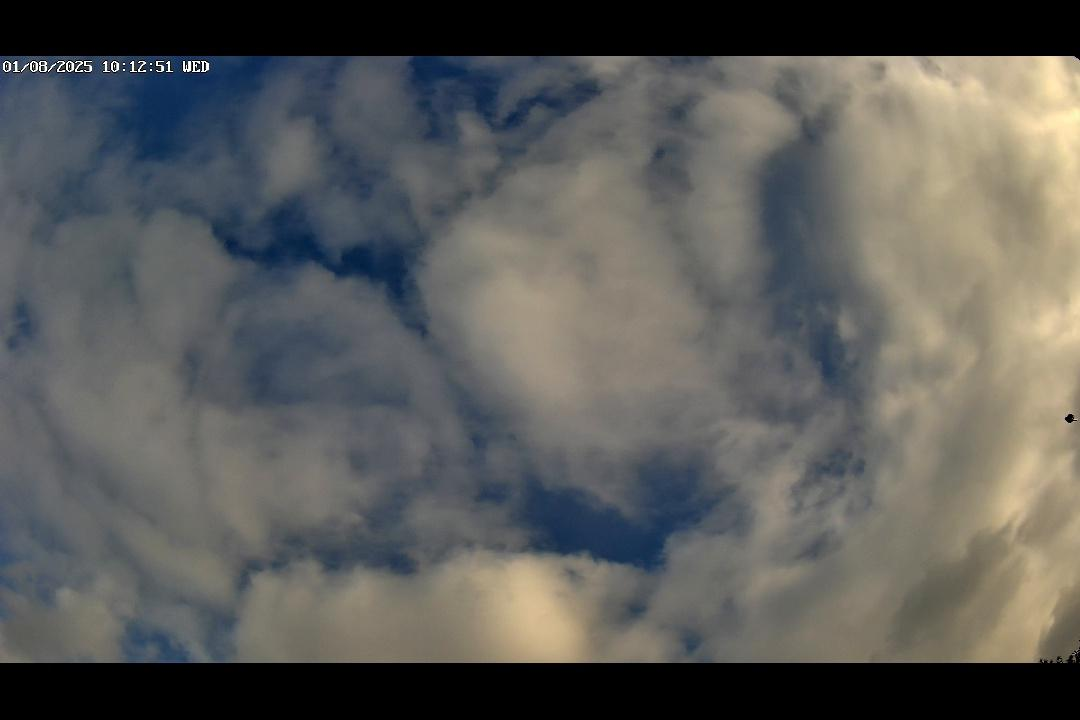WildLife: (1045, 410, 1079, 426)
